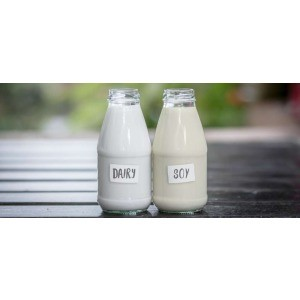milk_brain food: (159, 103, 211, 206), (94, 112, 147, 207)
